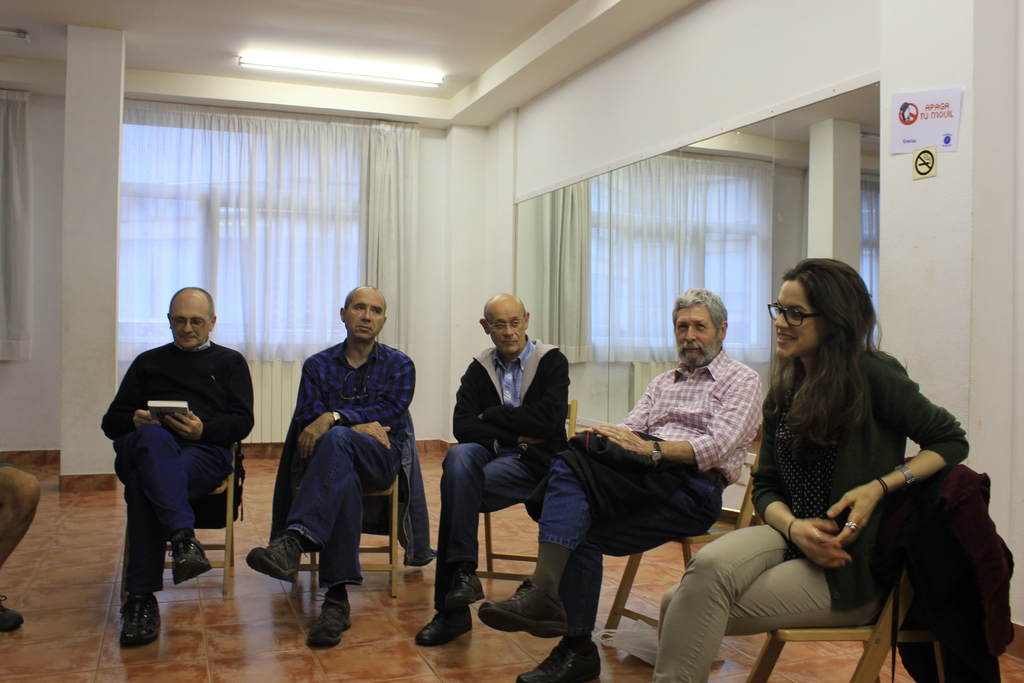Footwear: (481, 582, 571, 636), (512, 637, 604, 682), (99, 592, 156, 660), (168, 536, 222, 593), (247, 532, 303, 584), (303, 595, 356, 648), (419, 608, 476, 641), (442, 563, 484, 602), (0, 595, 25, 627)
